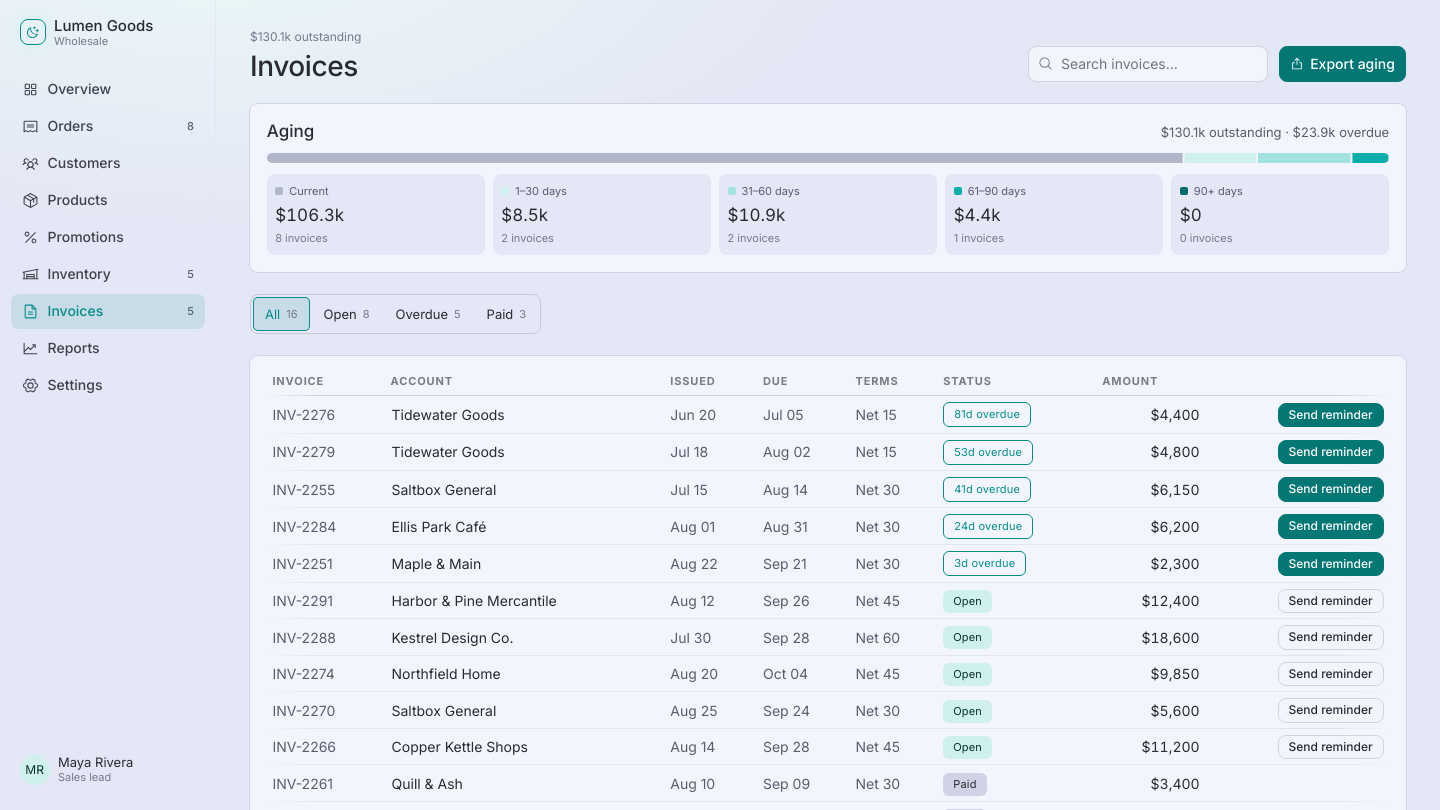
Test: other writes › confirms a sent invoice reminder
This screenshot has width=1440, height=810.
Click the button "Send reminder" in the row of "INV-2276" at coordinates (1331, 415), box [1278, 403, 1384, 427]
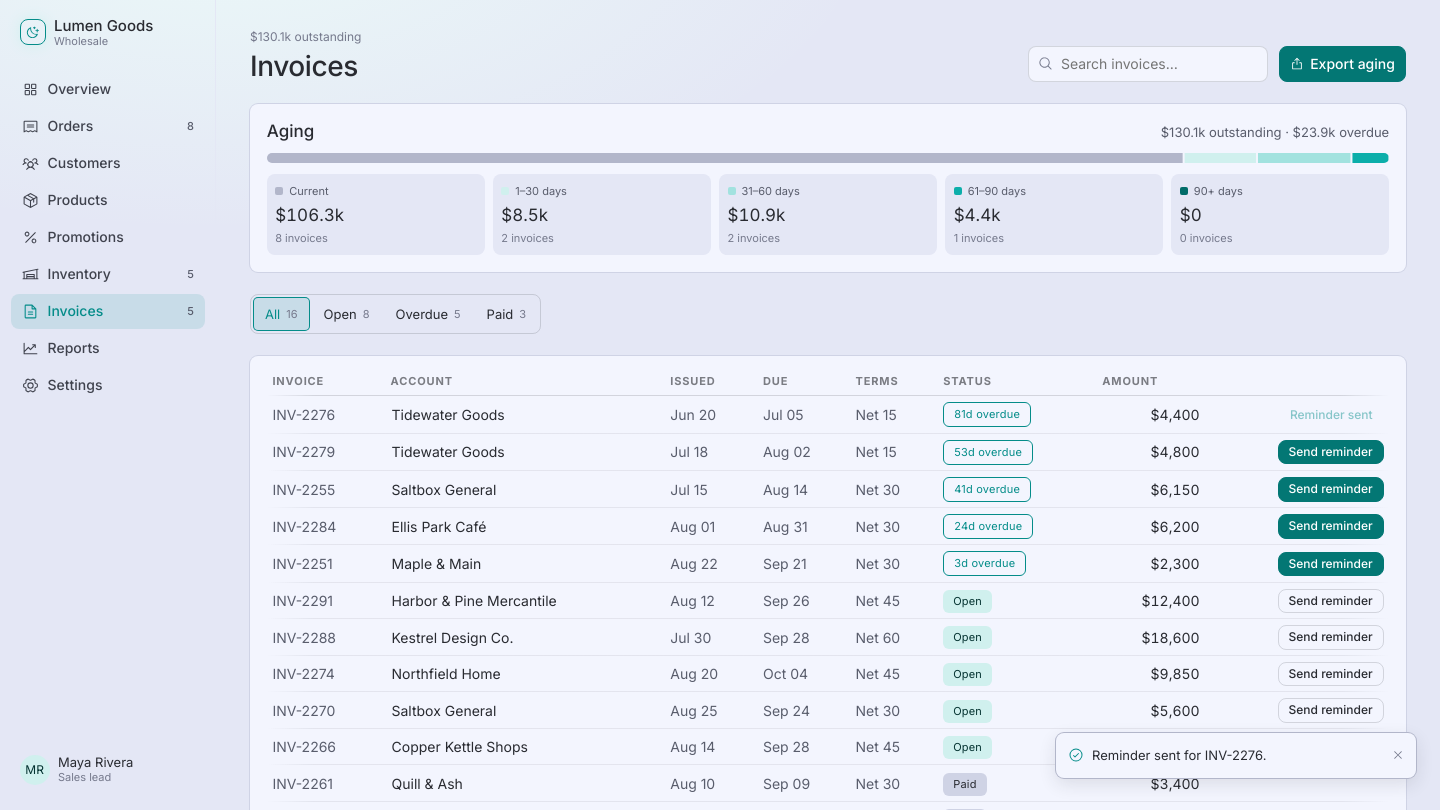
Expected: the text "Reminder sent for INV-2276." is shown, [1092, 747, 1266, 763]
